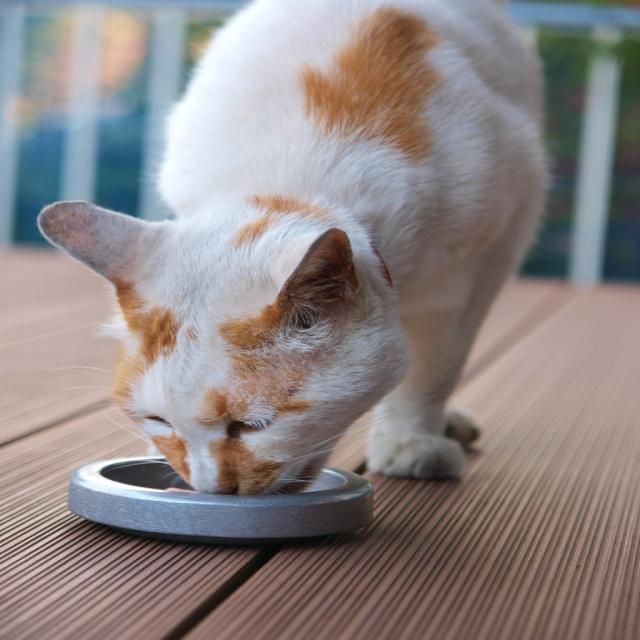Cat: (28, 0, 554, 490)
